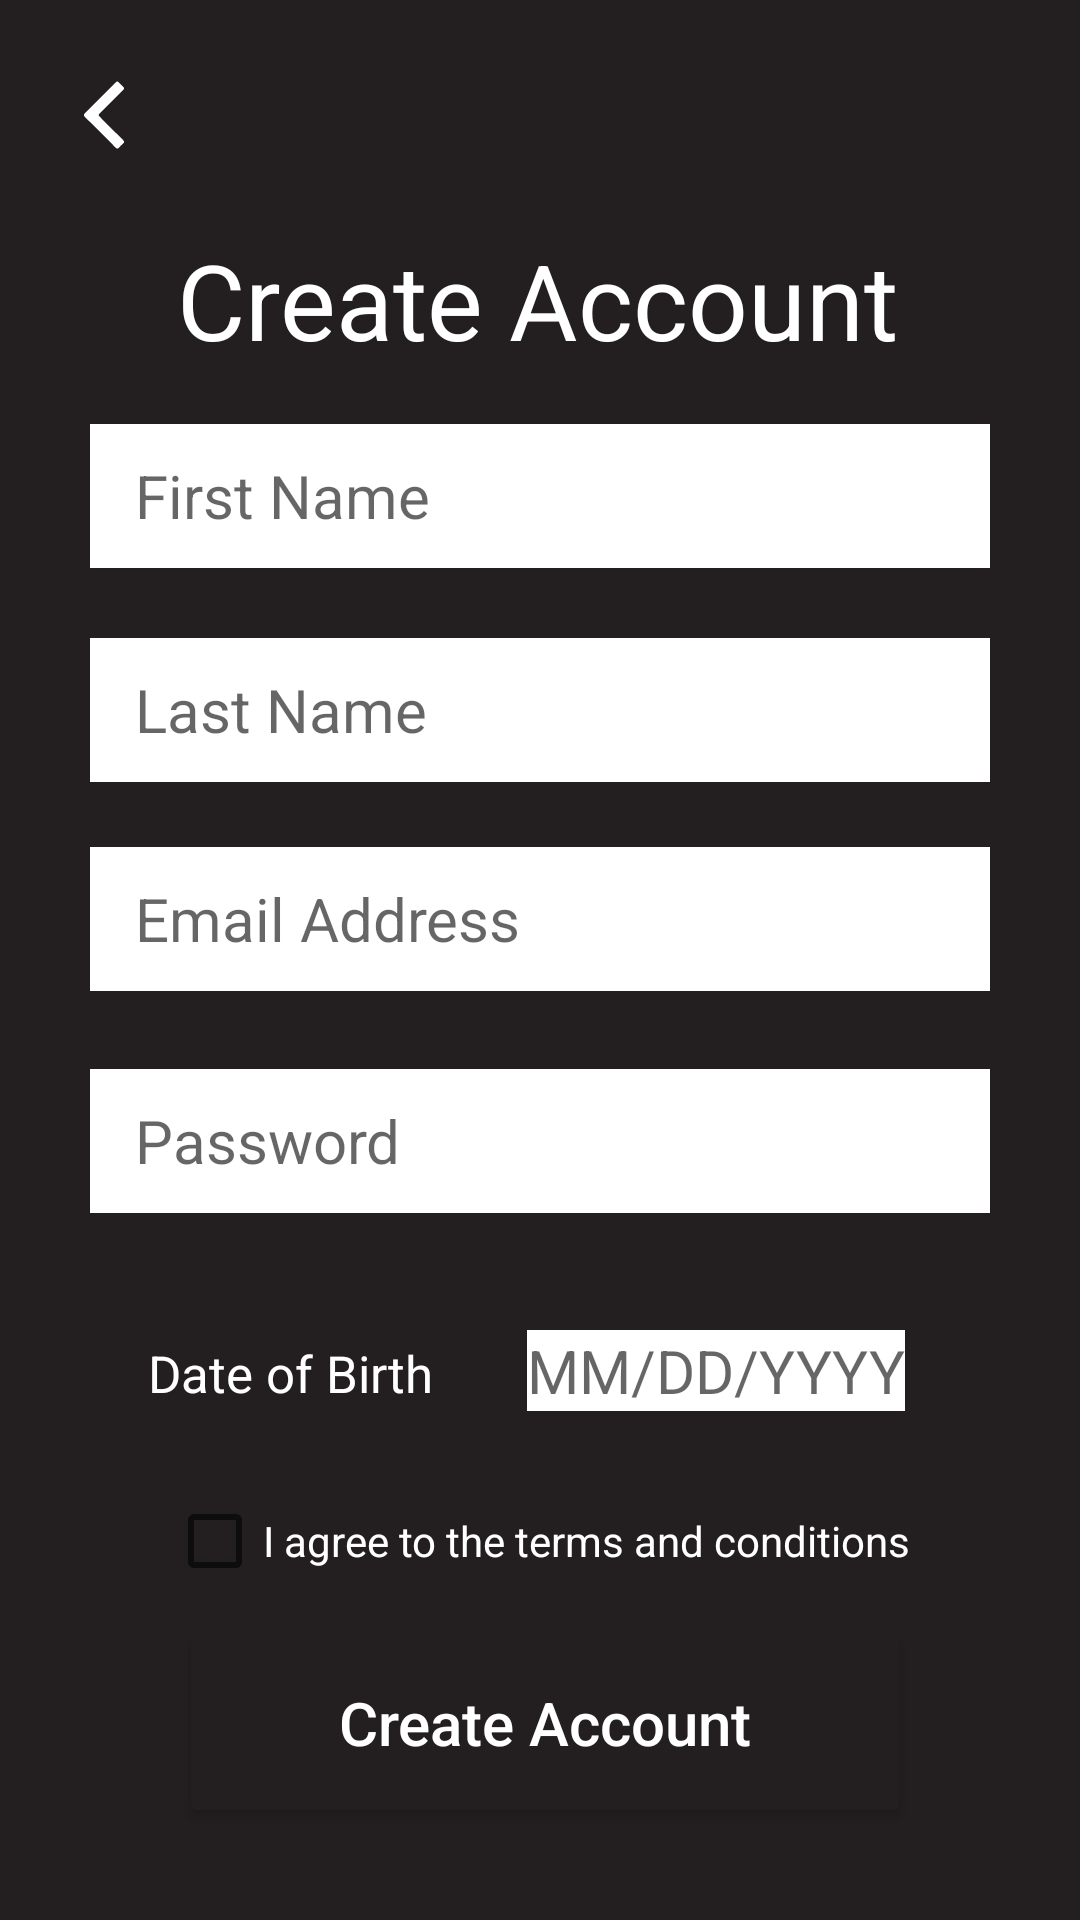

Where to tap for icons on this 1080×1920 app screen, as point (x, y):
back: point (104, 115)
